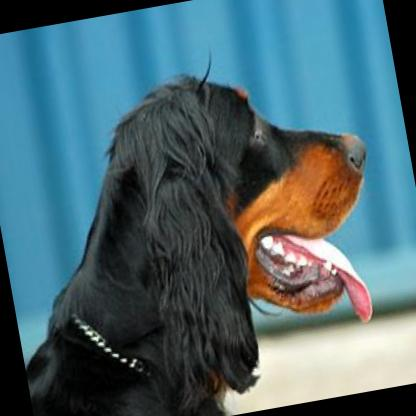Gordon_setter: (0, 21, 405, 416)
